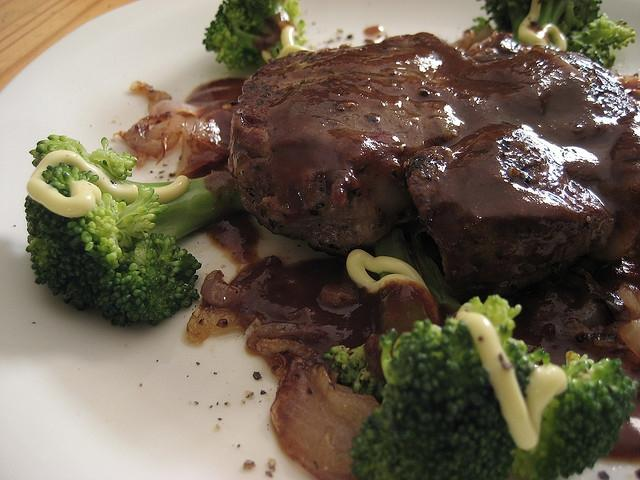broccoli: (352, 296, 638, 480), (24, 135, 246, 327), (202, 0, 310, 78), (480, 0, 603, 52)
onion: (255, 338, 382, 480), (119, 112, 172, 170), (248, 322, 326, 352), (186, 306, 246, 344), (168, 116, 198, 178), (200, 270, 244, 306), (128, 80, 172, 116), (153, 100, 200, 120)
